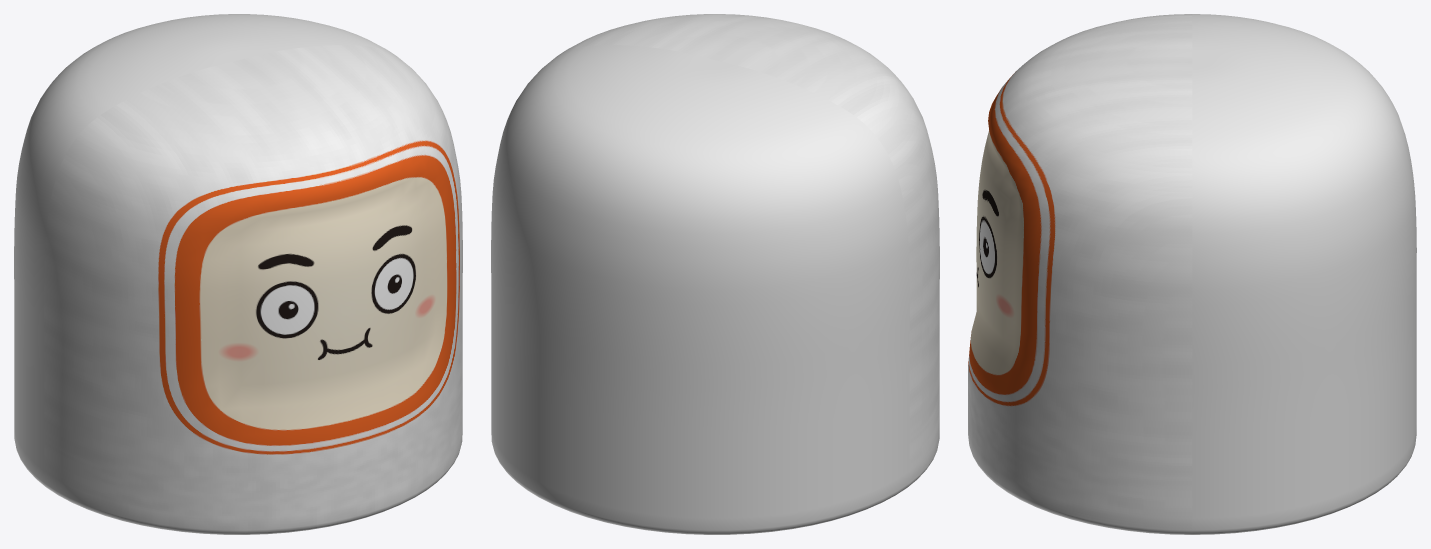
The model's file is kidaru.fbx.
3 views of the same model, side by side, from view 1: azimuth 30°, elevation 25°; view 2: azimuth 150°, elevation 25°; view 3: azimuth 270°, elevation 25° (orthographic).
Visible parts, largest first — view 1: kidaru; view 2: kidaru; view 3: kidaru.
Part boxes in pixels (box(x1,y1,x2,y2)): kidaru: box(14, 14, 462, 534); kidaru: box(491, 14, 939, 534); kidaru: box(968, 14, 1416, 534).
Size of the model in its own units: 1 by 0.9425 by 1.
Materials: 1 (1 with a texture image).
